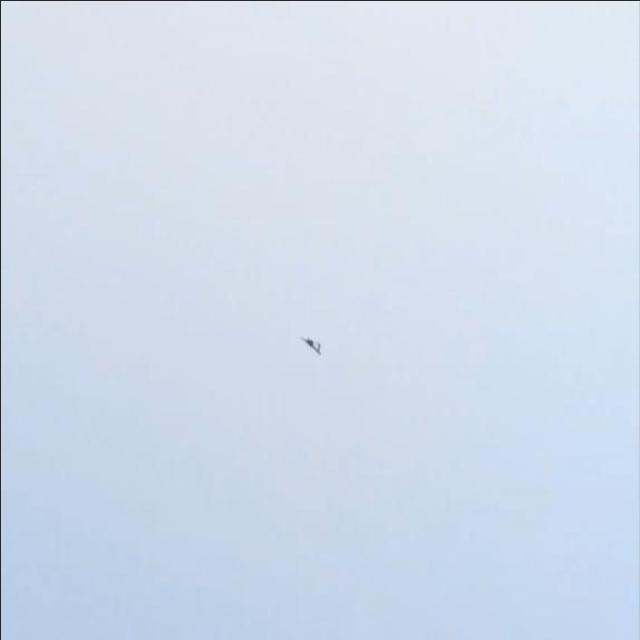plane: (301, 336, 322, 356)
